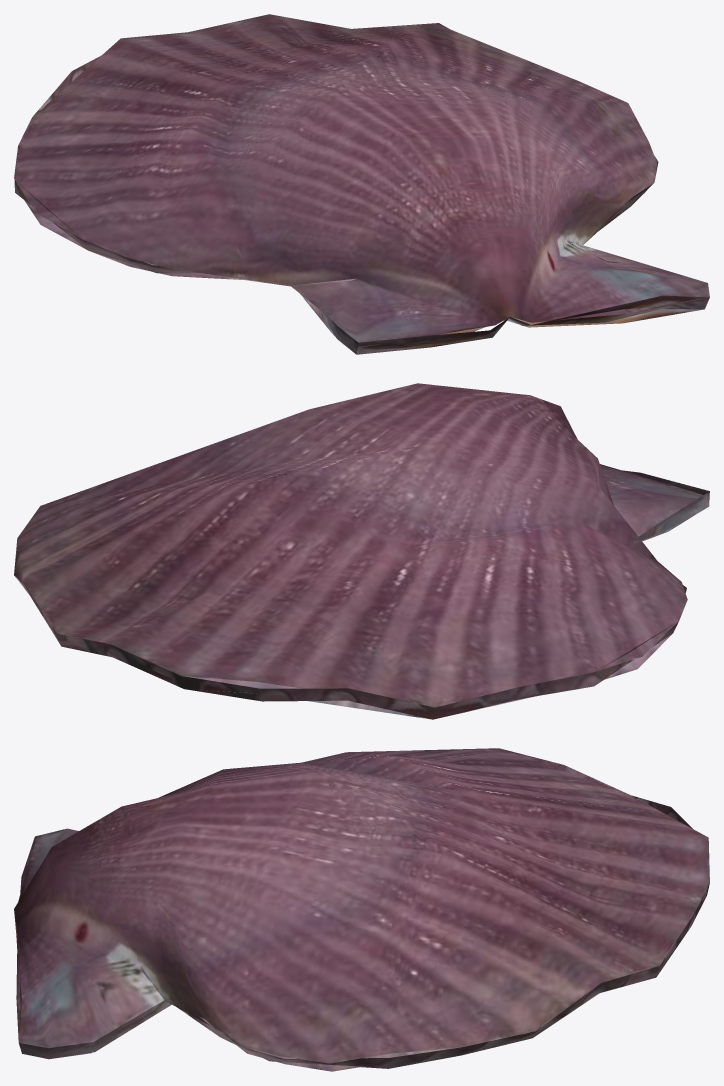
File: Seashell2.glb
The picture shows the model from 3 angles, top to bottom: view 1: azimuth 30°, elevation 25°; view 2: azimuth 150°, elevation 25°; view 3: azimuth 270°, elevation 25°; orthographic projection. The views are drawn at different scales.
Visible parts, largest first — view 1: Purple Scallop_Material.003_0; view 2: Purple Scallop_Material.003_0; view 3: Purple Scallop_Material.003_0.
Boxes of the visible parts, box(x1,y1,x2,y2) form: Purple Scallop_Material.003_0: box(14, 14, 709, 354); Purple Scallop_Material.003_0: box(14, 383, 709, 719); Purple Scallop_Material.003_0: box(14, 748, 709, 1071).
Size of the model in its own units: 0.2712 by 0.0744 by 0.2774.
Materials: 1 (1 with a texture image).
